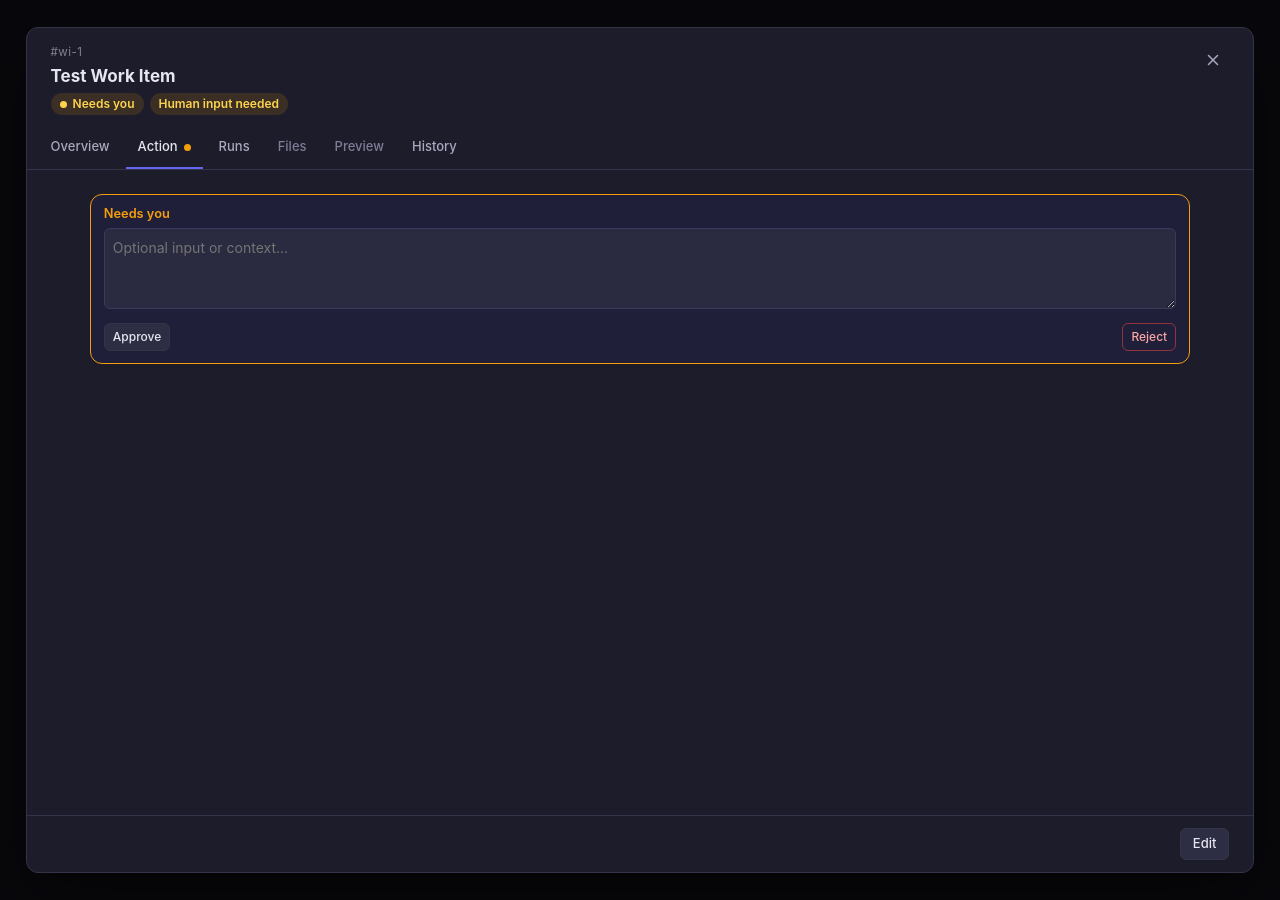
it: an answer sent after the run has moved on › says it was not sent, quotes the text outside the box, and the box is gone once the item is re-read
The width and height of the screenshot is (1280, 900).
Expected: the button "Approve" is shown, [104,323,170,351]
Type "Please also fix the flaky test" into the text box with placeholder "Optional input or context..." at (640, 268), box [104,228,1176,309]
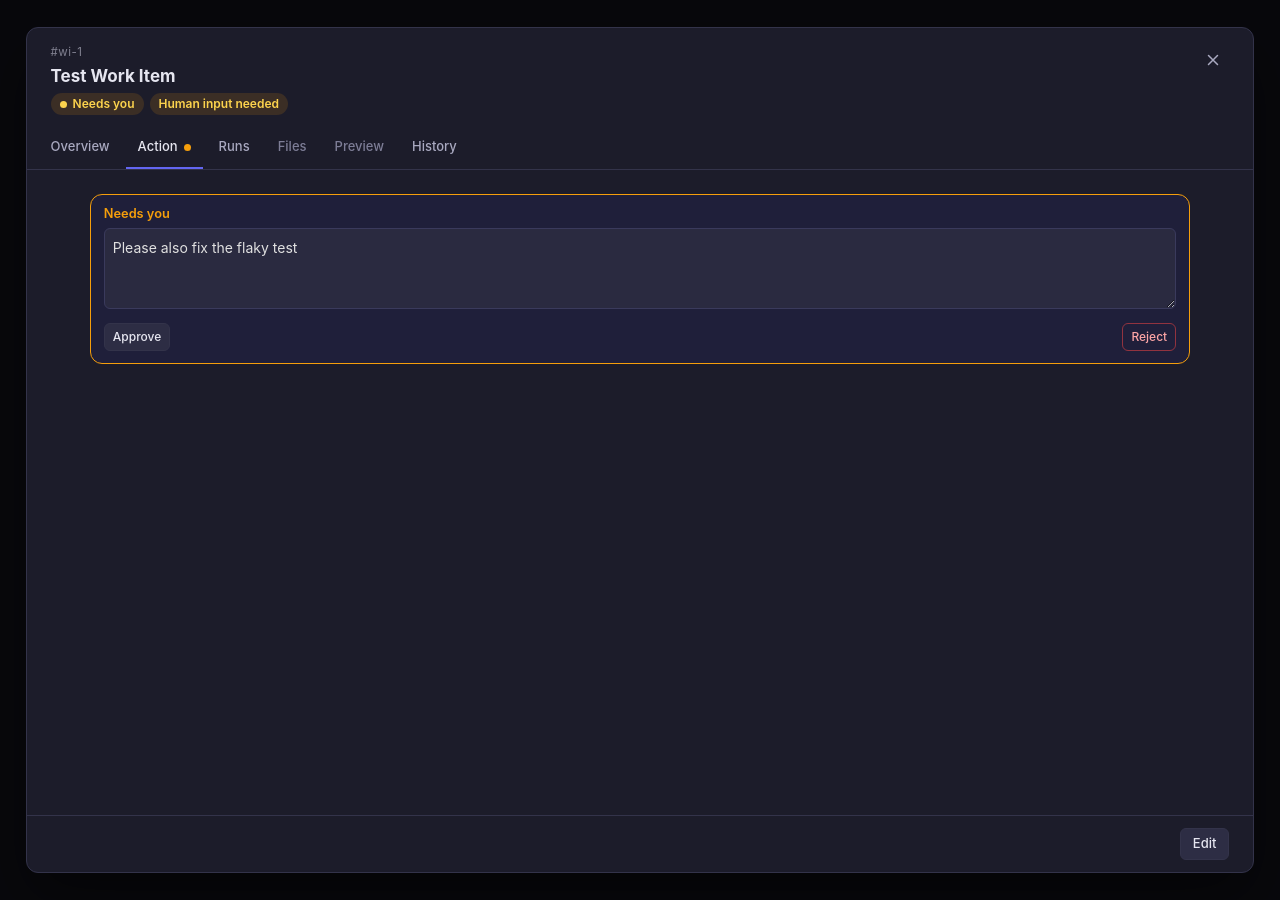
Click the button "Approve" at (137, 337), box [104,323,170,351]
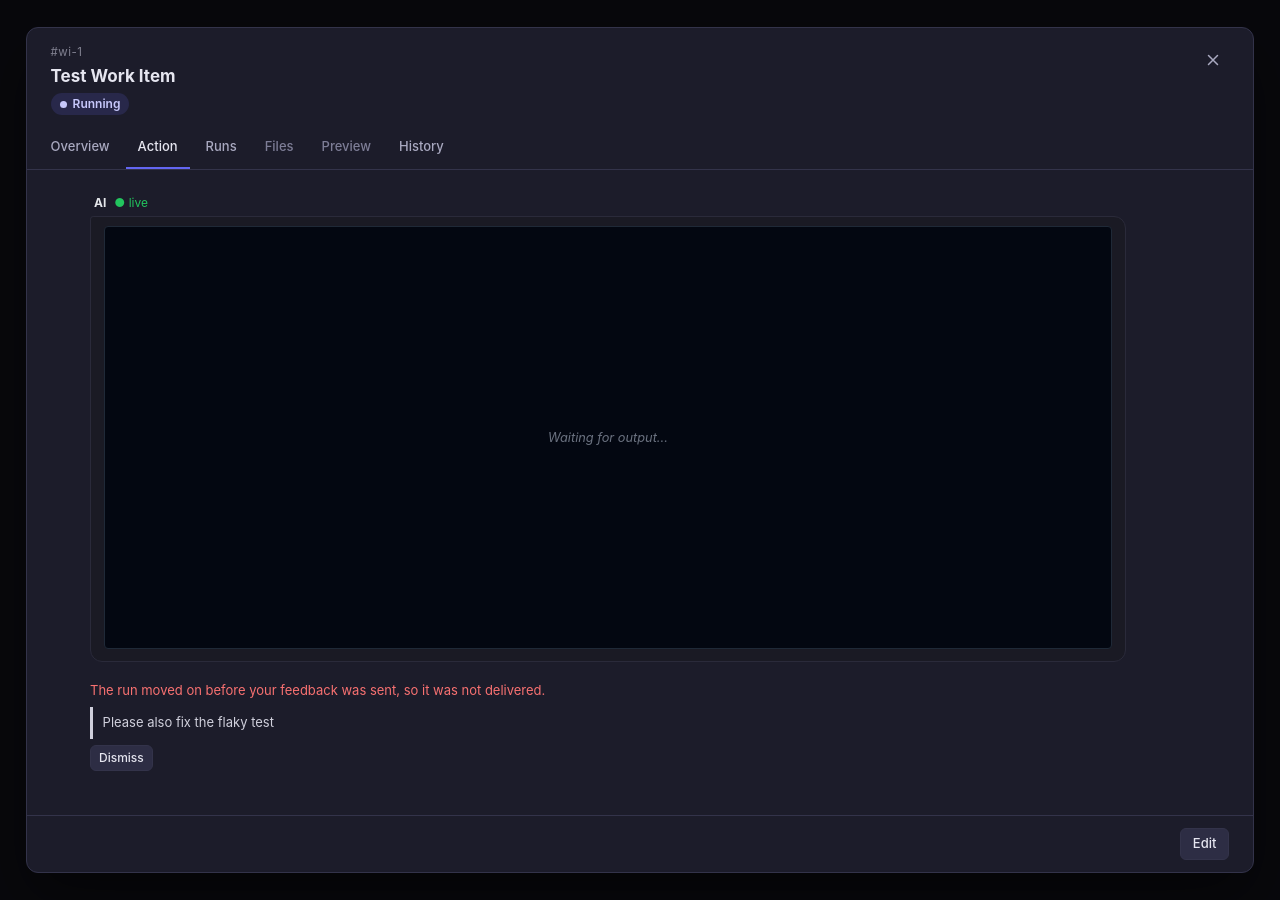
Result: the element with class "wiv2-feedback" is gone
Result: the text "moved on" reads "The run moved on before your feedback was sent, so it was not delivered." at [90,682,545,698]
